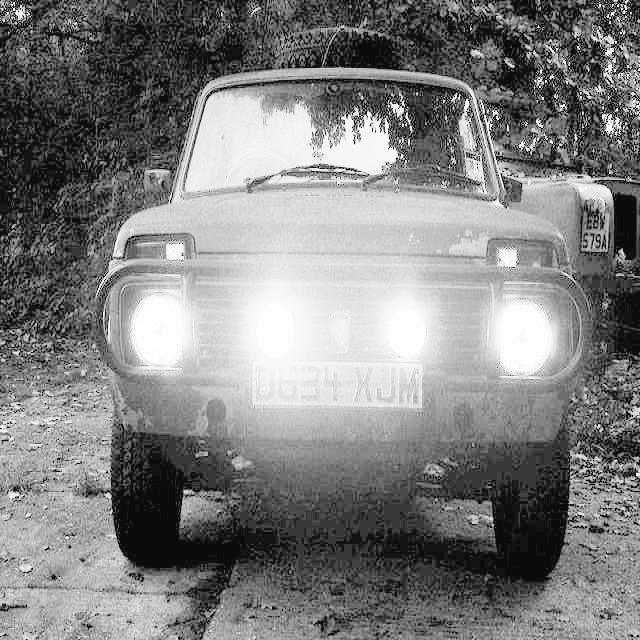Car: (91, 47, 585, 627)
